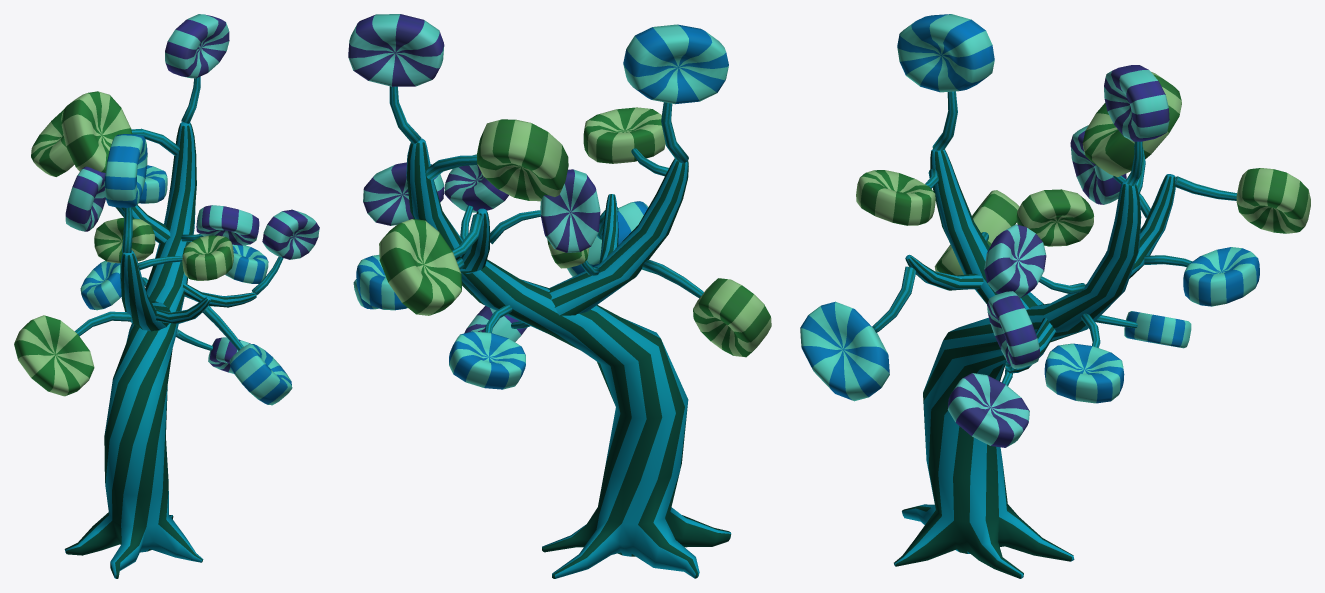
The model's file is cw_tree_14.fbx.
The picture shows the model from 3 angles, left to right: view 1: azimuth 30°, elevation 25°; view 2: azimuth 150°, elevation 25°; view 3: azimuth 270°, elevation 25°; orthographic projection. The views are drawn at different scales.
Parts seen in each view (by area): view 1: cw_t_14; view 2: cw_t_14; view 3: cw_t_14.
Part boxes in pixels (<box>): cw_t_14: <box>14,14,319,578</box>; cw_t_14: <box>348,14,771,578</box>; cw_t_14: <box>800,14,1310,578</box>.
Size of the model in its own units: 146 by 201 by 169.
